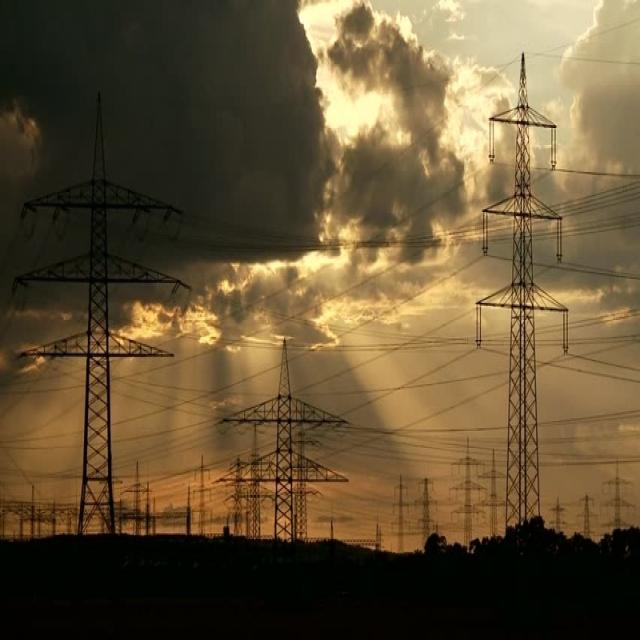non-critical vegetation: (18, 110, 188, 530), (475, 52, 573, 534), (224, 342, 340, 544)
